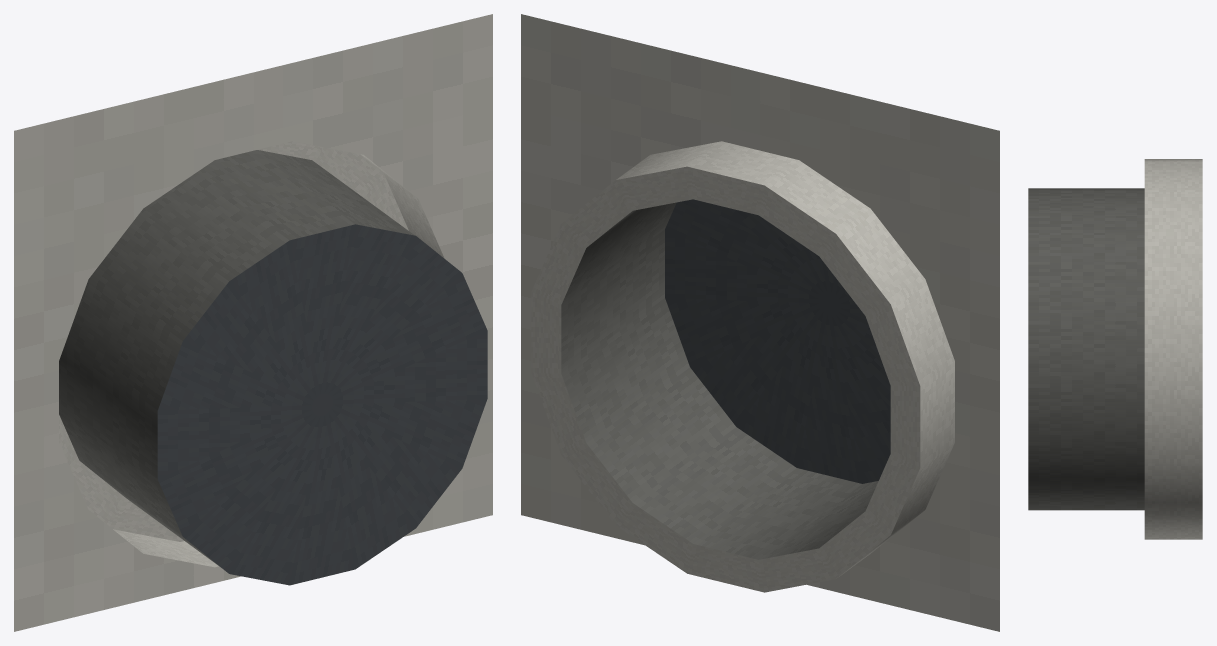
Rendered from hw_pipe.obj.
3 renders of one model, left to right at view 1: azimuth 30°, elevation 25°; view 2: azimuth 150°, elevation 25°; view 3: azimuth 270°, elevation 25°, orthographic. The views are drawn at different scales.
Visible parts, largest first — view 1: hw_pipe; view 2: hw_pipe; view 3: hw_pipe.
Boxes of the visible parts, x1,y1,x2,y2 form: hw_pipe: [14, 14, 492, 631]; hw_pipe: [521, 14, 999, 631]; hw_pipe: [1028, 159, 1202, 539].
Bounding box in the file's own units: 1 × 1 × 0.375.
